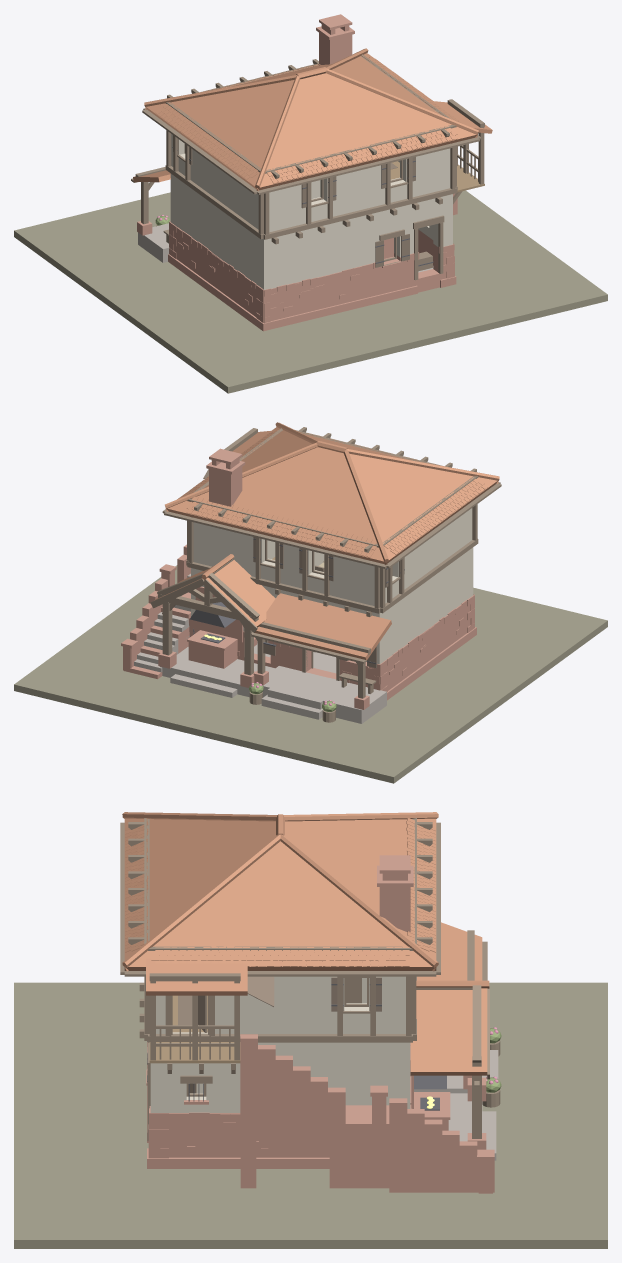
File: dom.glb
The picture shows the model from 3 angles, top to bottom: view 1: azimuth 30°, elevation 25°; view 2: azimuth 150°, elevation 25°; view 3: azimuth 270°, elevation 25°; orthographic projection. The views are drawn at different scales.
Parts seen in each view (by area): view 1: zemlya__m00, krysha__m03, obolochka__m01, obolochka__m00, obolochka__m02, krysha__m02, krysha__m00, obolochka__m05, obolochka__m11, obolochka__m03; view 2: zemlya__m00, krysha__m03, obolochka__m01, obolochka__m02, obolochka__m00, obolochka__m11, obolochka__m03, mebel__m00, krysha__m02, krysha__m00, obolochka__m05, mebel__m06 (+1 smaller); view 3: zemlya__m00, krysha__m03, obolochka__m00, obolochka__m01, obolochka__m02, obolochka__m03, krysha__m02, krysha__m00, obolochka__m11, obolochka__m09, obolochka__m05, mebel__m00 (+1 smaller).
Part boxes in pixels (bbox=[...]): zemlya__m00: bbox=[14, 190, 607, 393]; krysha__m03: bbox=[144, 48, 478, 190]; obolochka__m01: bbox=[170, 134, 452, 289]; obolochka__m00: bbox=[137, 193, 457, 331]; obolochka__m02: bbox=[131, 54, 484, 280]; krysha__m02: bbox=[142, 108, 481, 194]; krysha__m00: bbox=[316, 14, 354, 65]; obolochka__m05: bbox=[173, 135, 415, 267]; obolochka__m11: bbox=[138, 223, 169, 262]; obolochka__m03: bbox=[133, 101, 492, 182]; zemlya__m00: bbox=[14, 565, 607, 783]; krysha__m03: bbox=[165, 422, 499, 564]; obolochka__m01: bbox=[191, 508, 473, 664]; obolochka__m02: bbox=[150, 427, 478, 698]; obolochka__m00: bbox=[121, 544, 476, 709]; obolochka__m11: bbox=[134, 573, 386, 723]; obolochka__m03: bbox=[154, 430, 391, 660]; mebel__m00: bbox=[187, 586, 257, 668]; krysha__m02: bbox=[162, 482, 501, 568]; krysha__m00: bbox=[206, 448, 245, 506]; obolochka__m05: bbox=[203, 469, 404, 668]; mebel__m06: bbox=[190, 602, 235, 643]; zemlya__m00: bbox=[14, 982, 607, 1248]; krysha__m03: bbox=[122, 812, 438, 971]; obolochka__m00: bbox=[146, 1034, 494, 1193]; obolochka__m01: bbox=[150, 976, 410, 1112]; obolochka__m02: bbox=[128, 818, 489, 1141]; obolochka__m03: bbox=[146, 922, 489, 1075]; krysha__m02: bbox=[120, 822, 440, 976]; krysha__m00: bbox=[377, 855, 413, 931]; obolochka__m11: bbox=[414, 1050, 498, 1160]; obolochka__m09: bbox=[149, 1042, 240, 1063]; obolochka__m05: bbox=[147, 976, 381, 1050]; mebel__m00: bbox=[411, 1075, 450, 1130].
Bounding box in the file's own units: 17.19 × 9.18 × 16.78.
